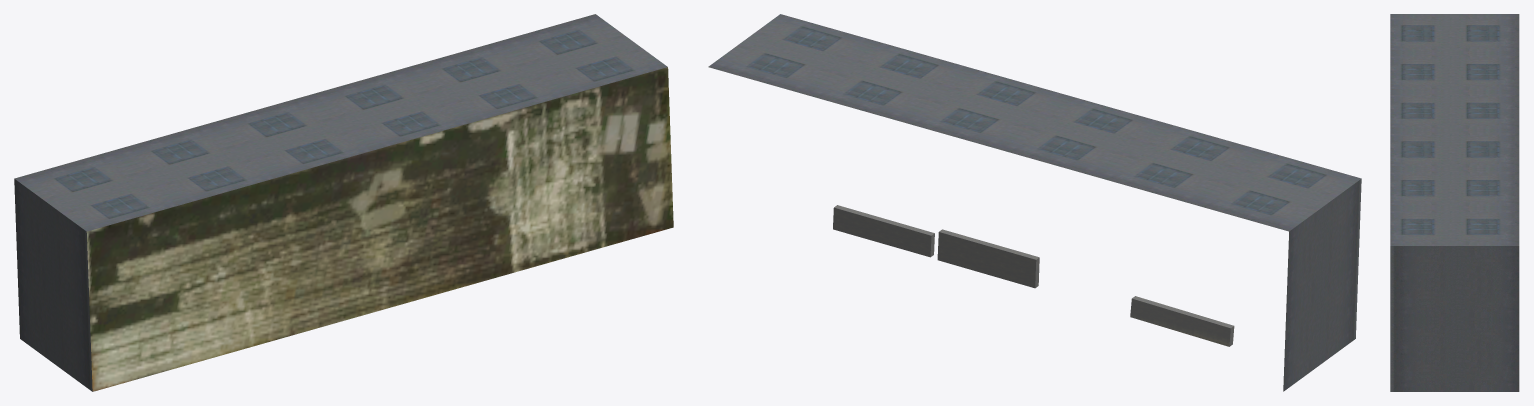
The picture shows the model from 3 angles, left to right: view 1: azimuth 30°, elevation 25°; view 2: azimuth 150°, elevation 25°; view 3: azimuth 270°, elevation 25°; orthographic projection. The views are drawn at different scales.
Visible parts, largest first — view 1: Group_MatrixTransform_i96175_Geometry_7, Group_MatrixTransform_i96175_Geometry_2, Group_MatrixTransform_i96175_Geometry_1; view 2: Group_MatrixTransform_i96175_Geometry_2, Group_MatrixTransform_i96175_Geometry_1, Group_MatrixTransform_i96175_Geometry_3; view 3: Group_MatrixTransform_i96175_Geometry_2, Group_MatrixTransform_i96175_Geometry_1.
Part boxes in pixels (x1,y1,x2,y2): Group_MatrixTransform_i96175_Geometry_7: (86,67,673,391); Group_MatrixTransform_i96175_Geometry_2: (14,14,667,231); Group_MatrixTransform_i96175_Geometry_1: (14,179,92,391); Group_MatrixTransform_i96175_Geometry_2: (708,14,1361,231); Group_MatrixTransform_i96175_Geometry_1: (1283,179,1361,391); Group_MatrixTransform_i96175_Geometry_3: (833,205,1234,346); Group_MatrixTransform_i96175_Geometry_2: (1390,14,1519,245); Group_MatrixTransform_i96175_Geometry_1: (1390,246,1519,391).
Bounding box in the file's own units: 29.2 × 9.16 × 6.26.
Materials: 8 (8 with a texture image).
